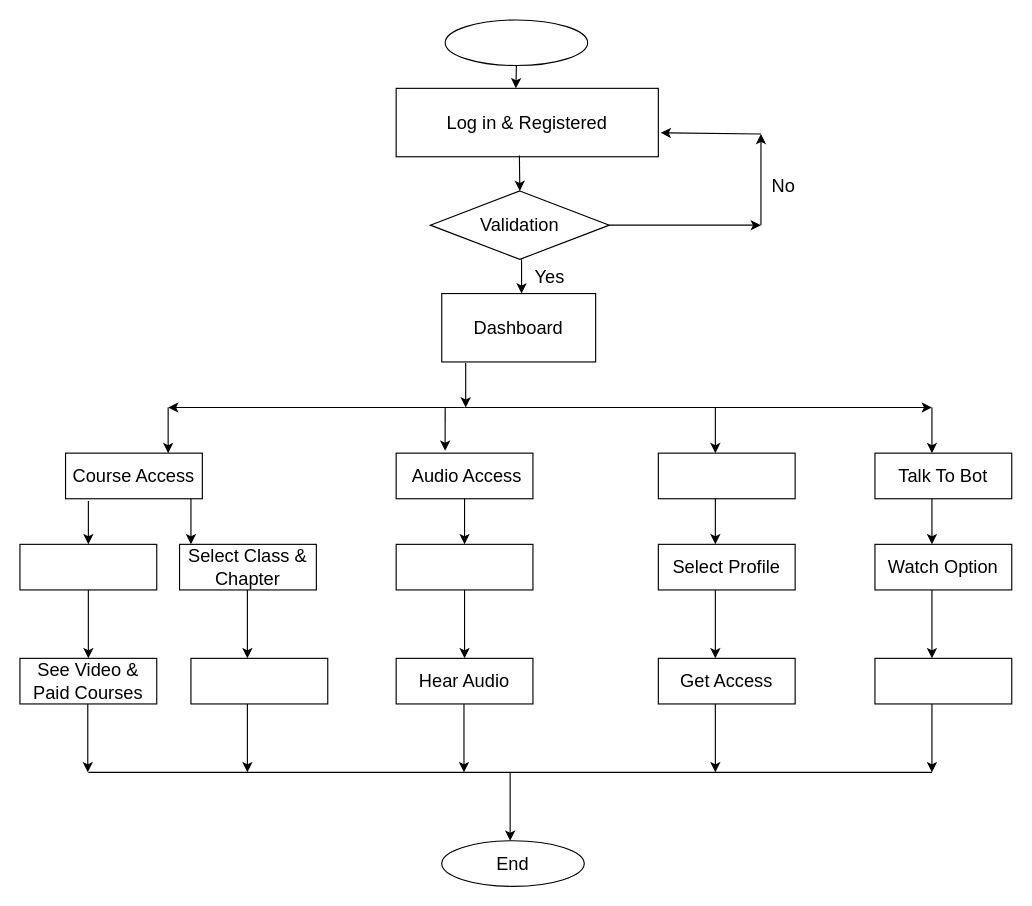
This 1032x906 diagram has some shape labels left out. The box of each missing label's shape, as (x1, y1, x2, y2) in pixels:
See Profile: (657, 452, 795, 499)
Select: (874, 657, 1012, 704)
Select Course: (19, 543, 157, 590)
Start: (444, 19, 588, 66)
Voice Detection & Select: (395, 543, 533, 590)
Watch Video: (190, 657, 328, 704)
